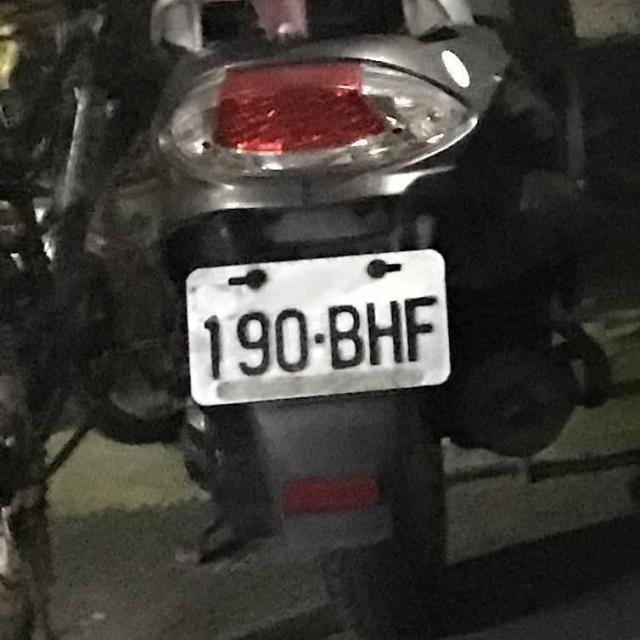W: (178, 235, 460, 418)
